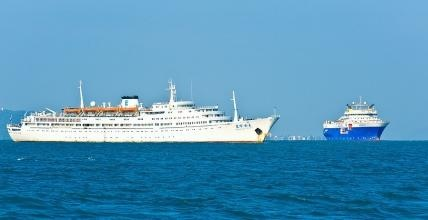Cargoship: (318, 98, 389, 142)
youlun: (8, 76, 284, 146)
